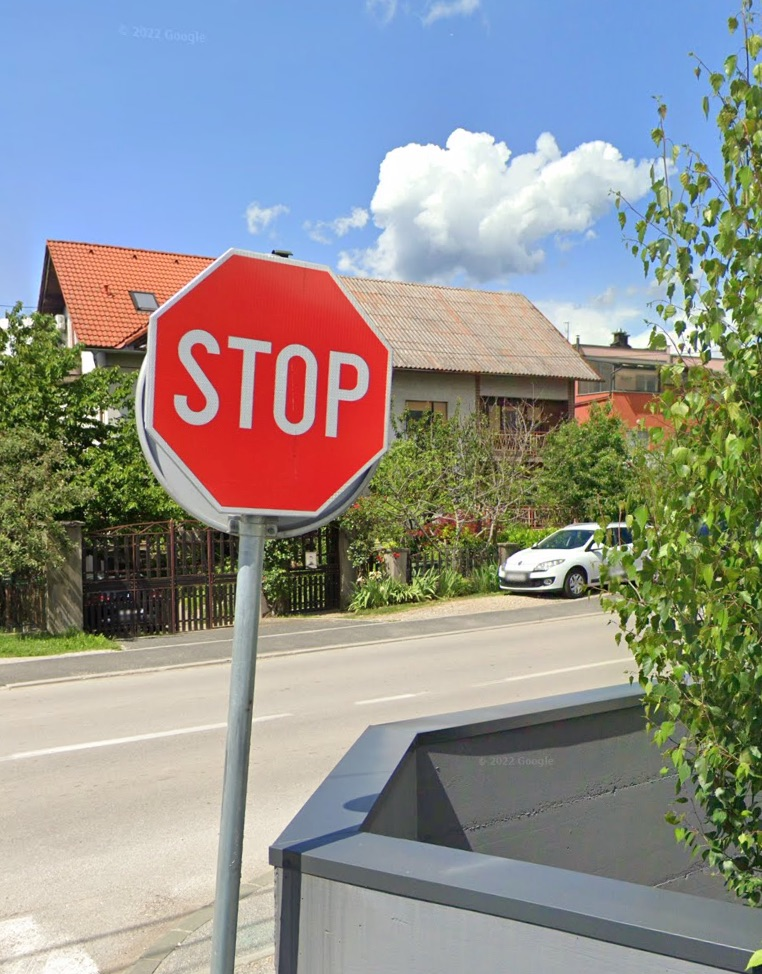Obavezno zaustavljanje: (145, 248, 394, 516)
